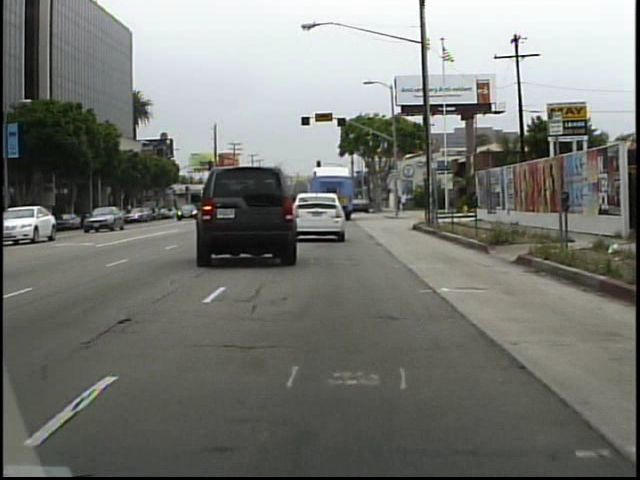person: (401, 188, 410, 214), (395, 189, 403, 214)
